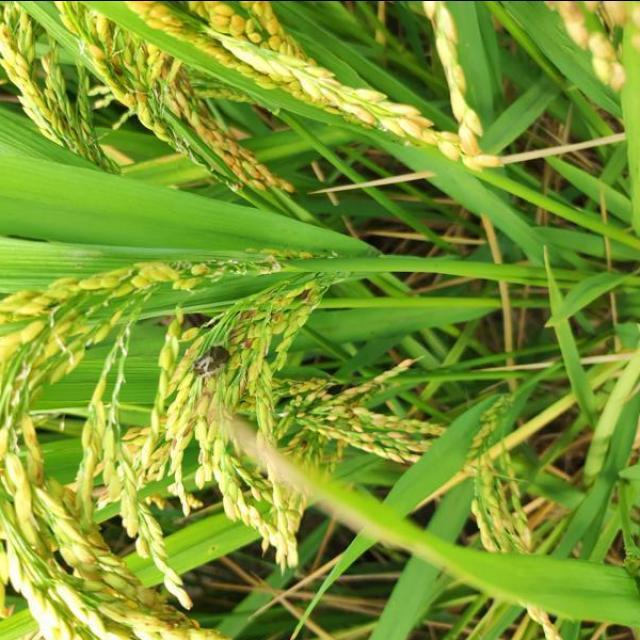Leaf_Scald: (188, 342, 228, 378)
